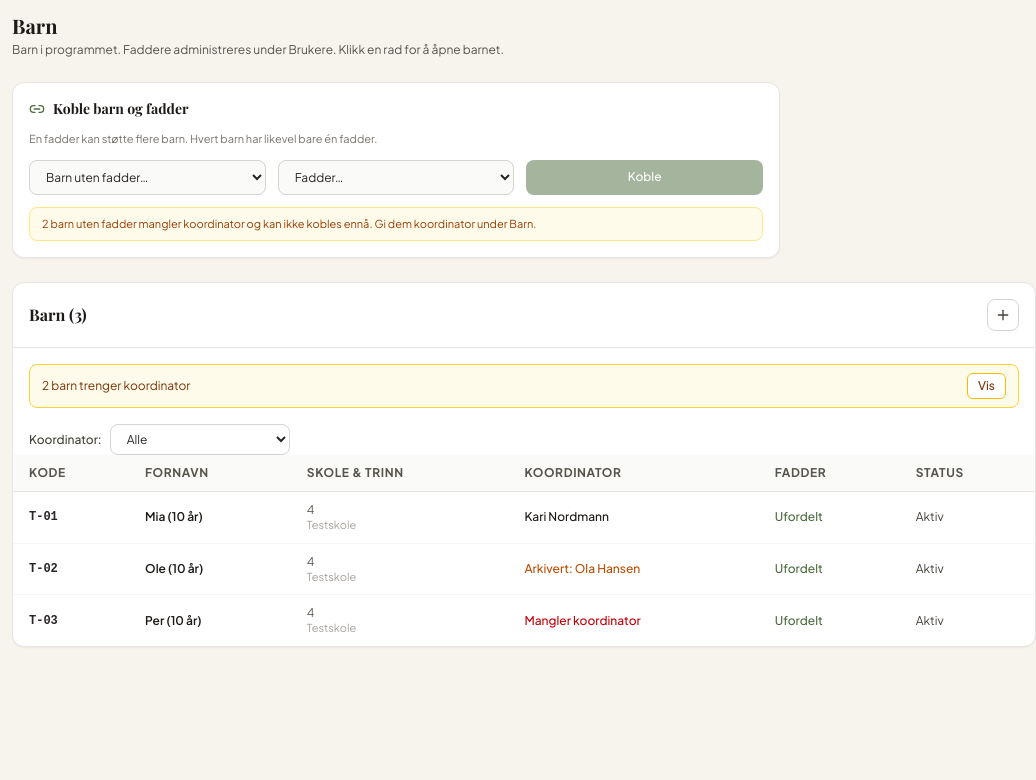
Test case: Barn-siden: koordinatorkolonne og filter › koordinatorfilteret viser bare barn hos valgt koordinator
The width and height of the screenshot is (1036, 780).
Select "Kari Nordmann" in the dropdown named "Filtrer på koordinator": [200, 440] box [110, 424, 290, 455]
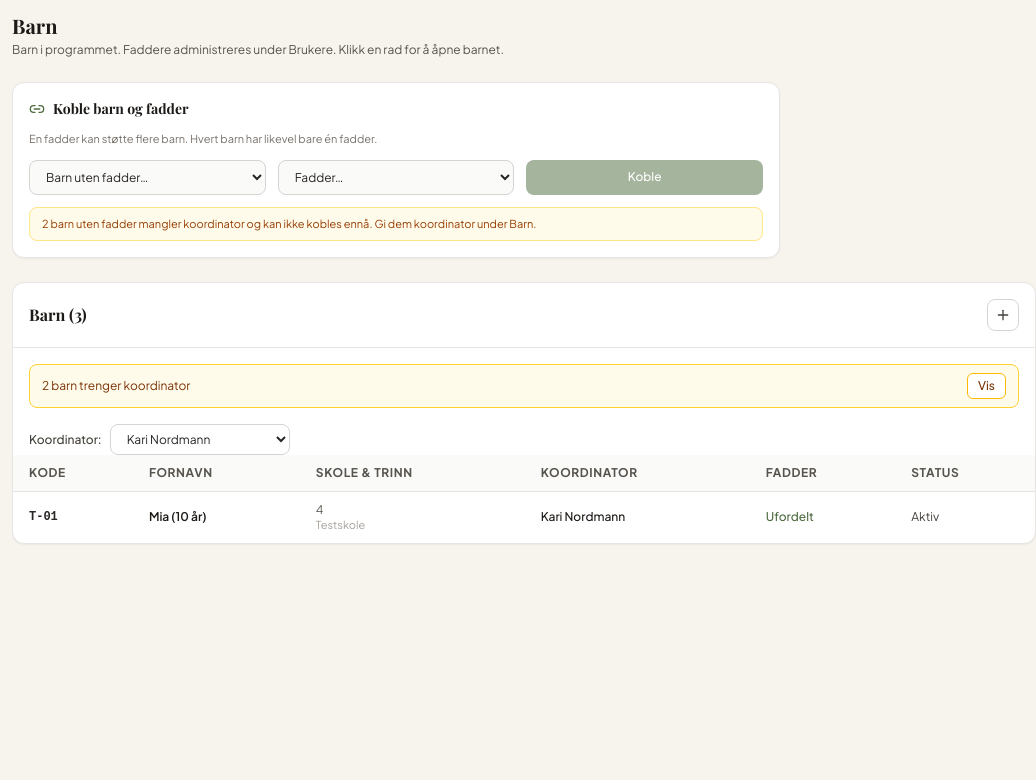
Check: the text "T-01" is shown, box [13, 492, 133, 543]
Check: the text "T-03" is gone
